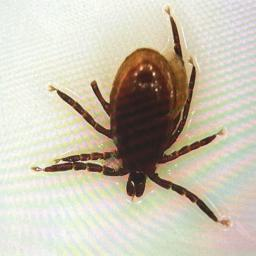Ixodes scapularis: (33, 5, 222, 226)
